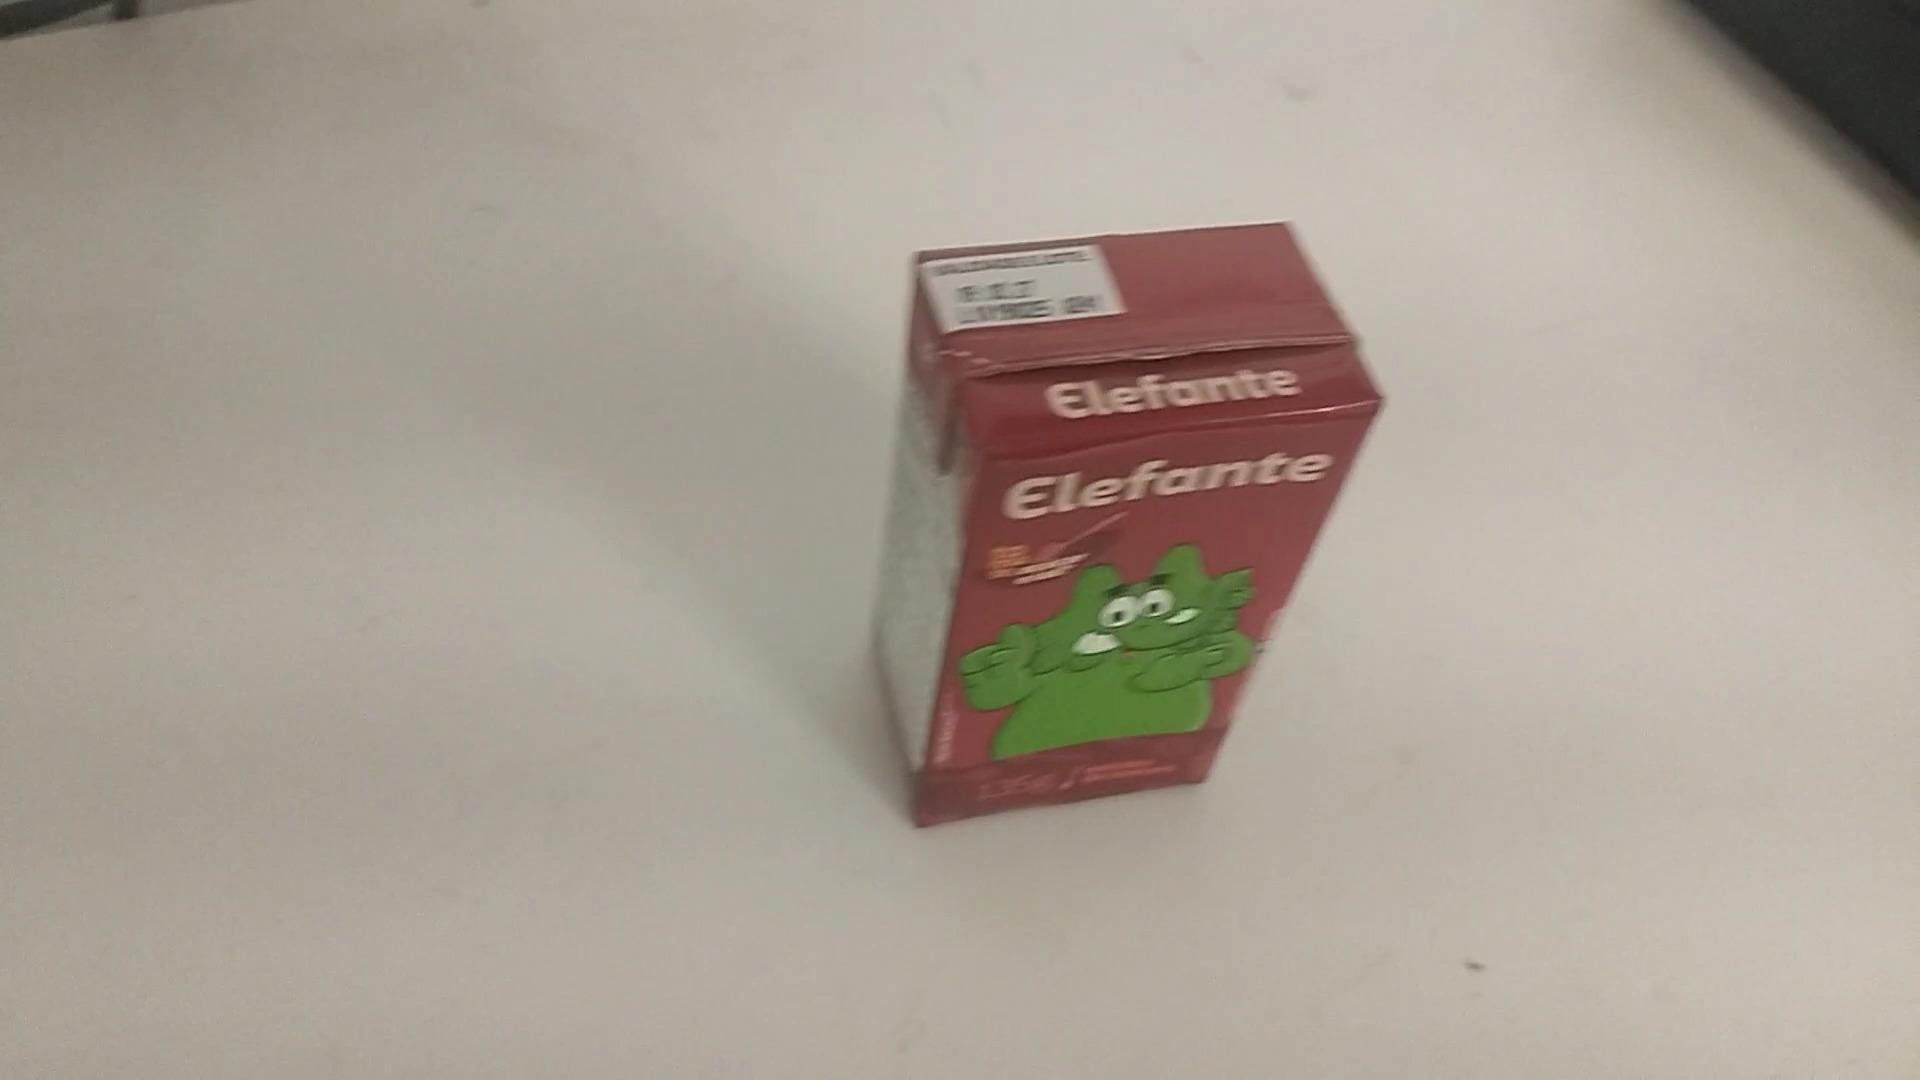tomate: (878, 214, 1386, 835)
